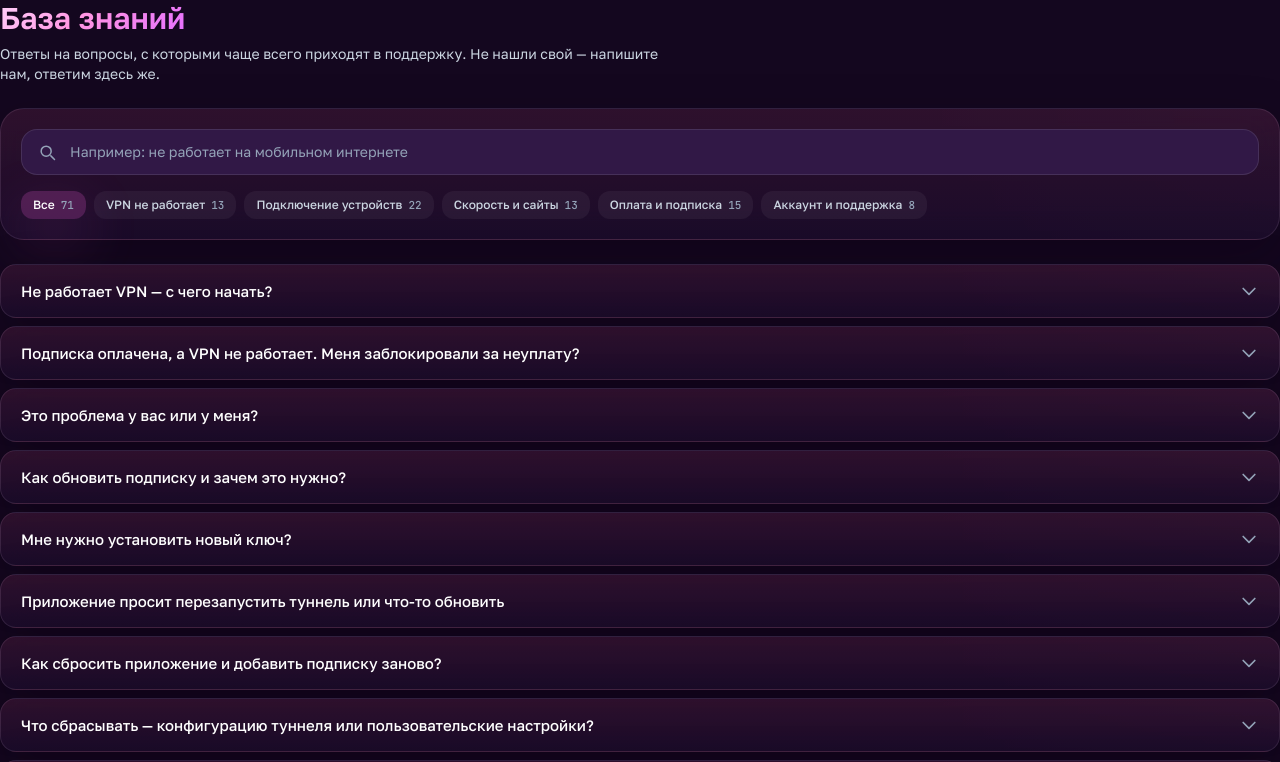
Scenario: FaqPage › offers support when nothing matches
This screenshot has width=1280, height=762.
Step 1. Type "йцукенгшщз" into the search field → (640, 152), box [21,129,1259,175]
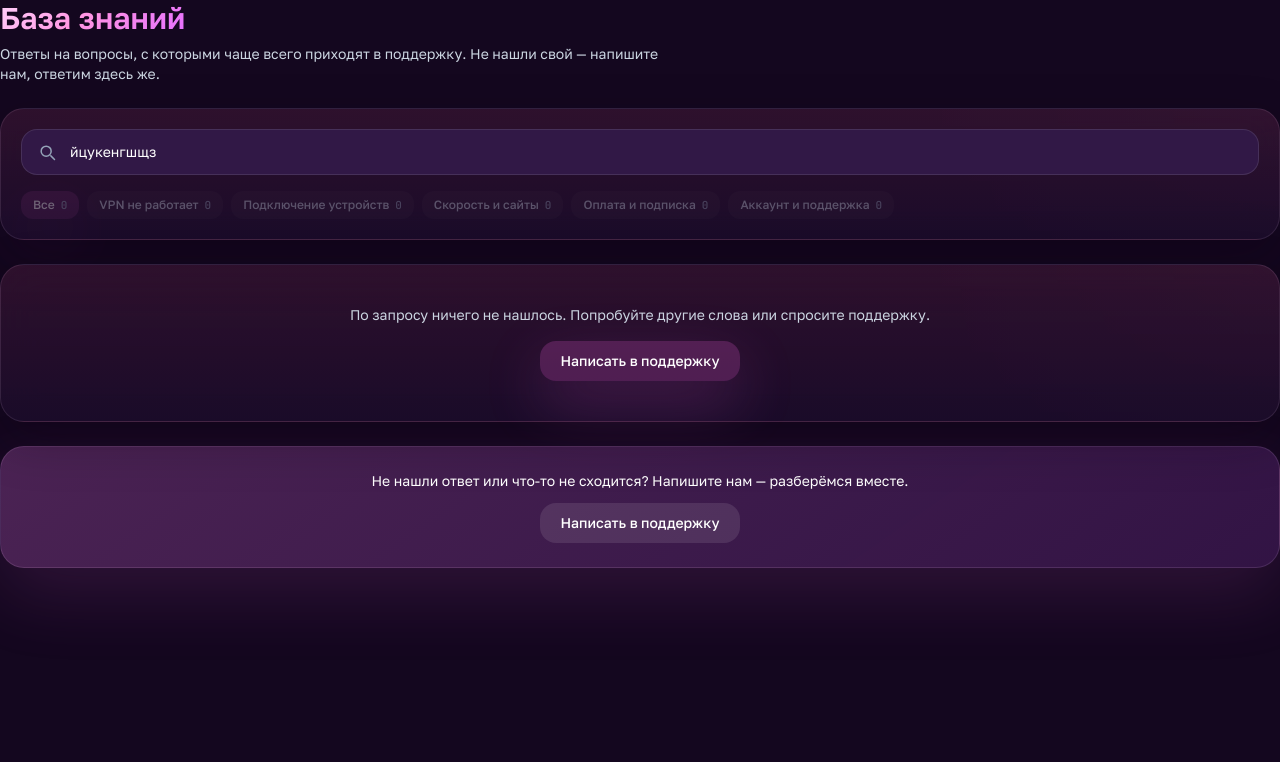
expect the text "ничего не нашлось" is shown: met, box [350,306,930,323]
